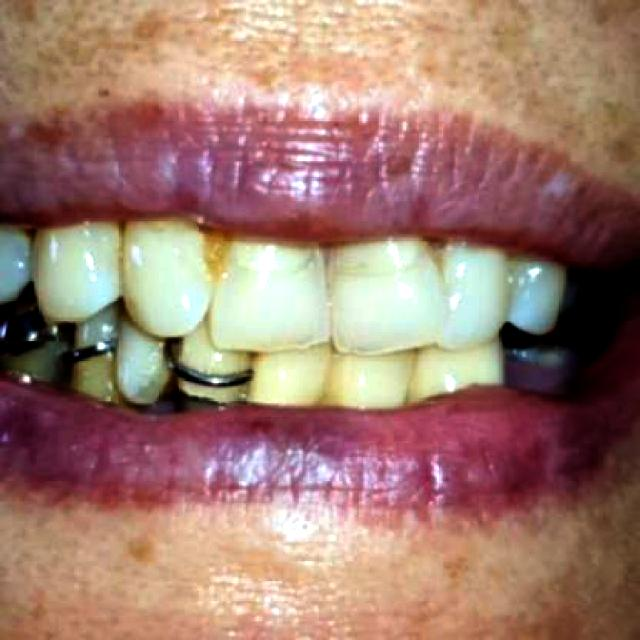Plaque: (507, 348, 578, 390), (3, 327, 64, 375)
